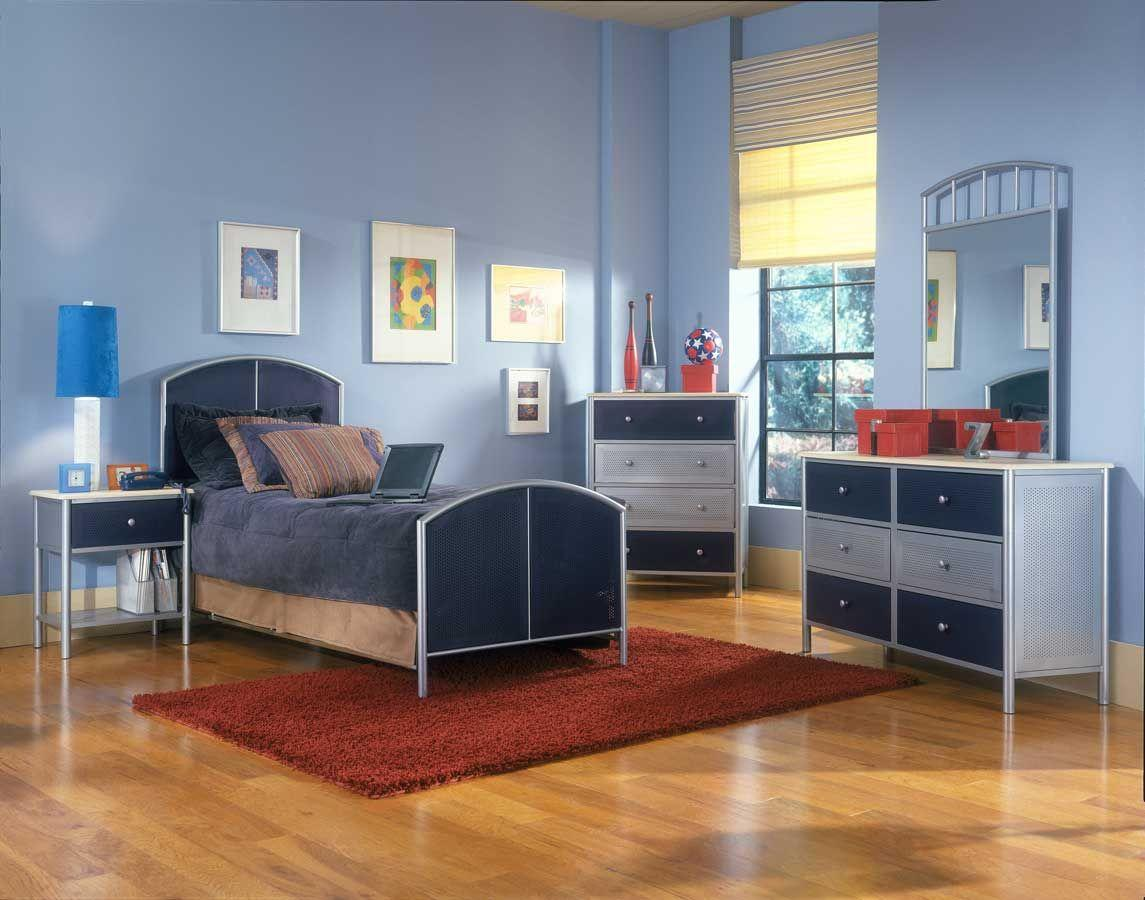bed: (154, 310, 570, 692)
